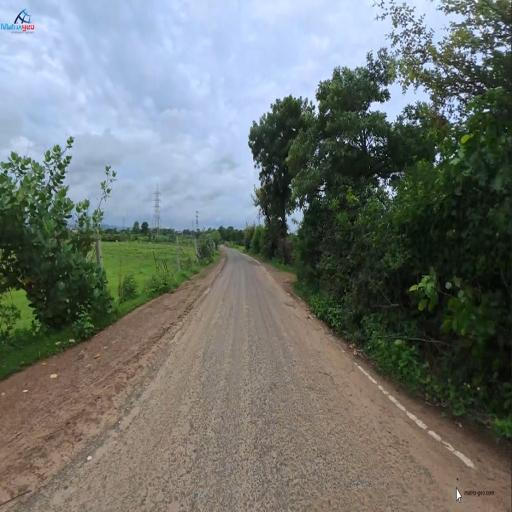ravelling: (191, 400, 364, 488)
